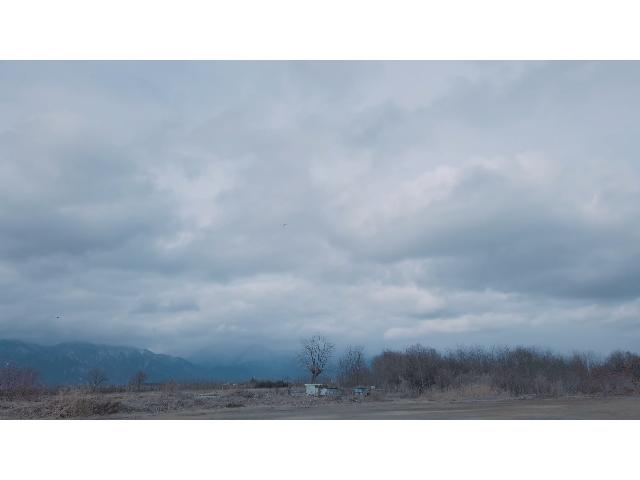Anti-Drone: (280, 219, 292, 229)
